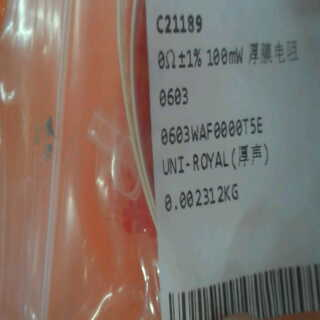0R: (155, 45, 207, 108)
